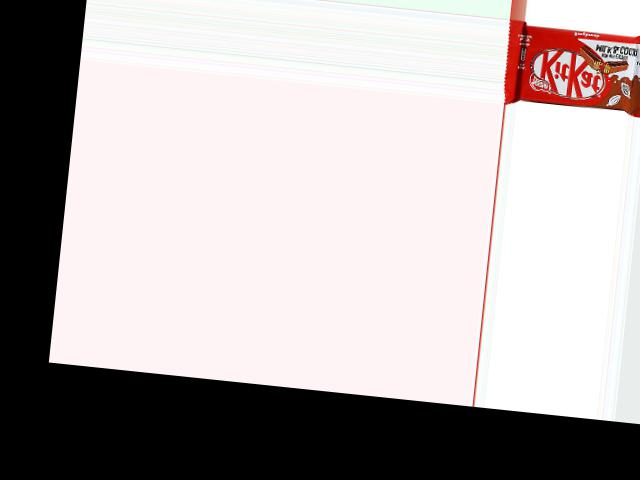chocolate: (502, 19, 640, 118)
